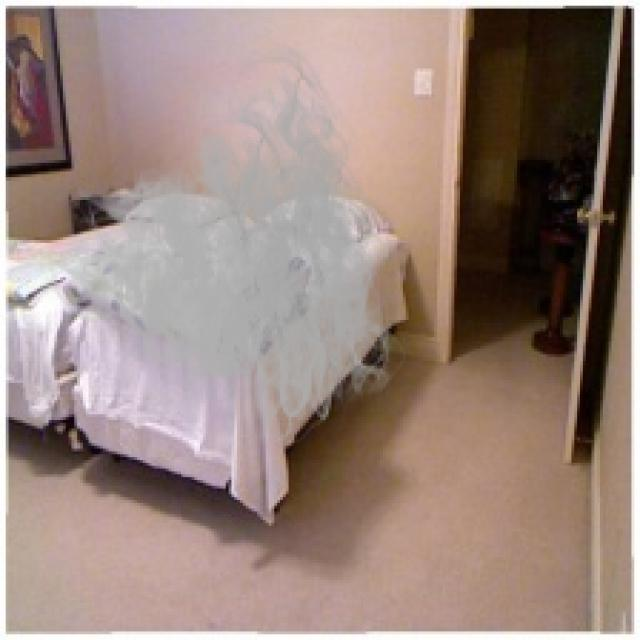smoke: (40, 40, 414, 457)
